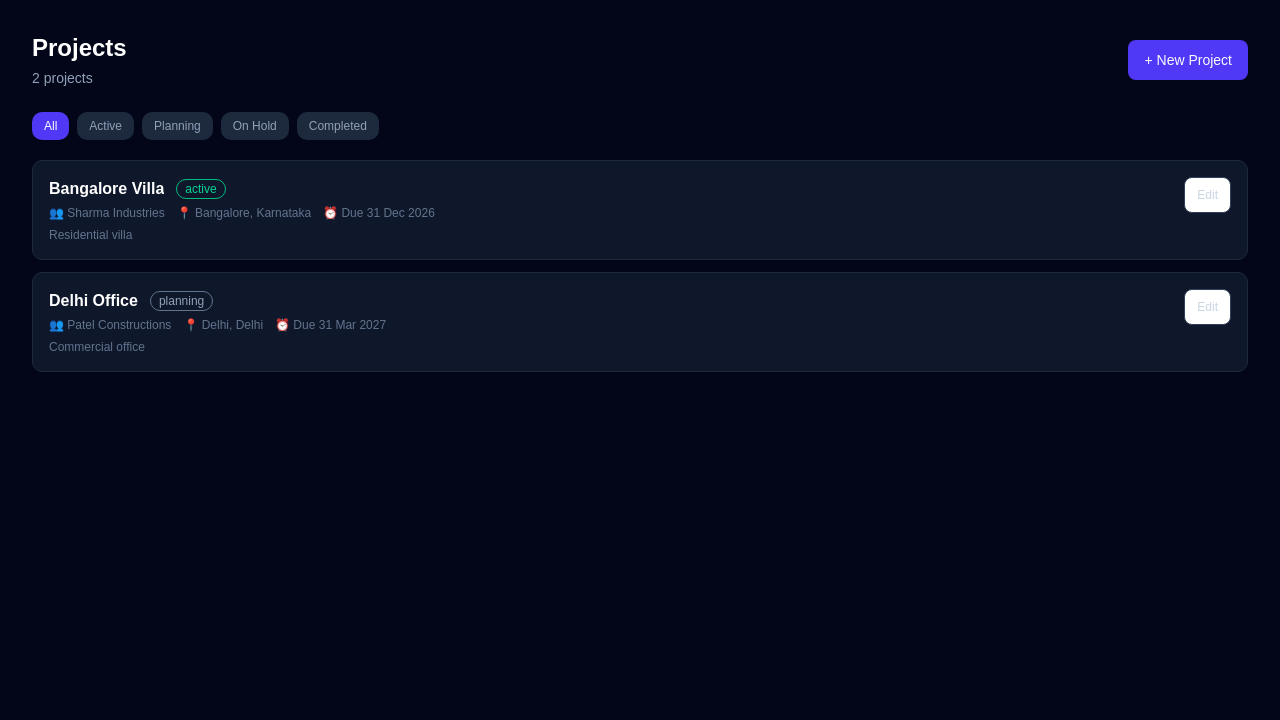
it: opens dialog on New Project click
Click the button "+ New Project". click: (1188, 60)
box: [1128,40,1248,80]
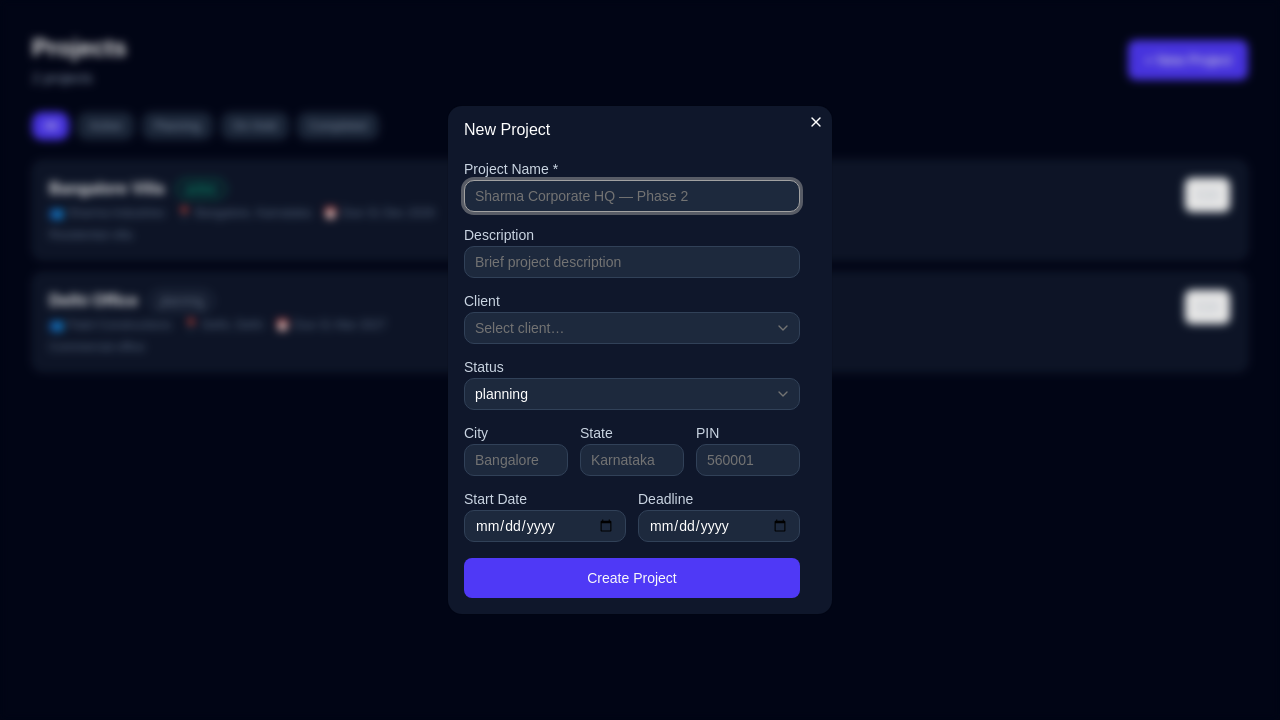
Expected: the dialog is shown, [448,106,832,614]
